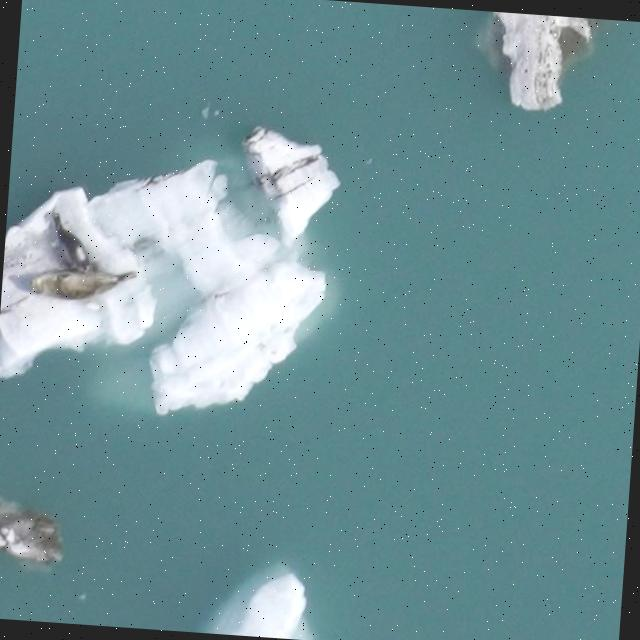seal: (27, 267, 136, 301), (46, 210, 92, 273)
